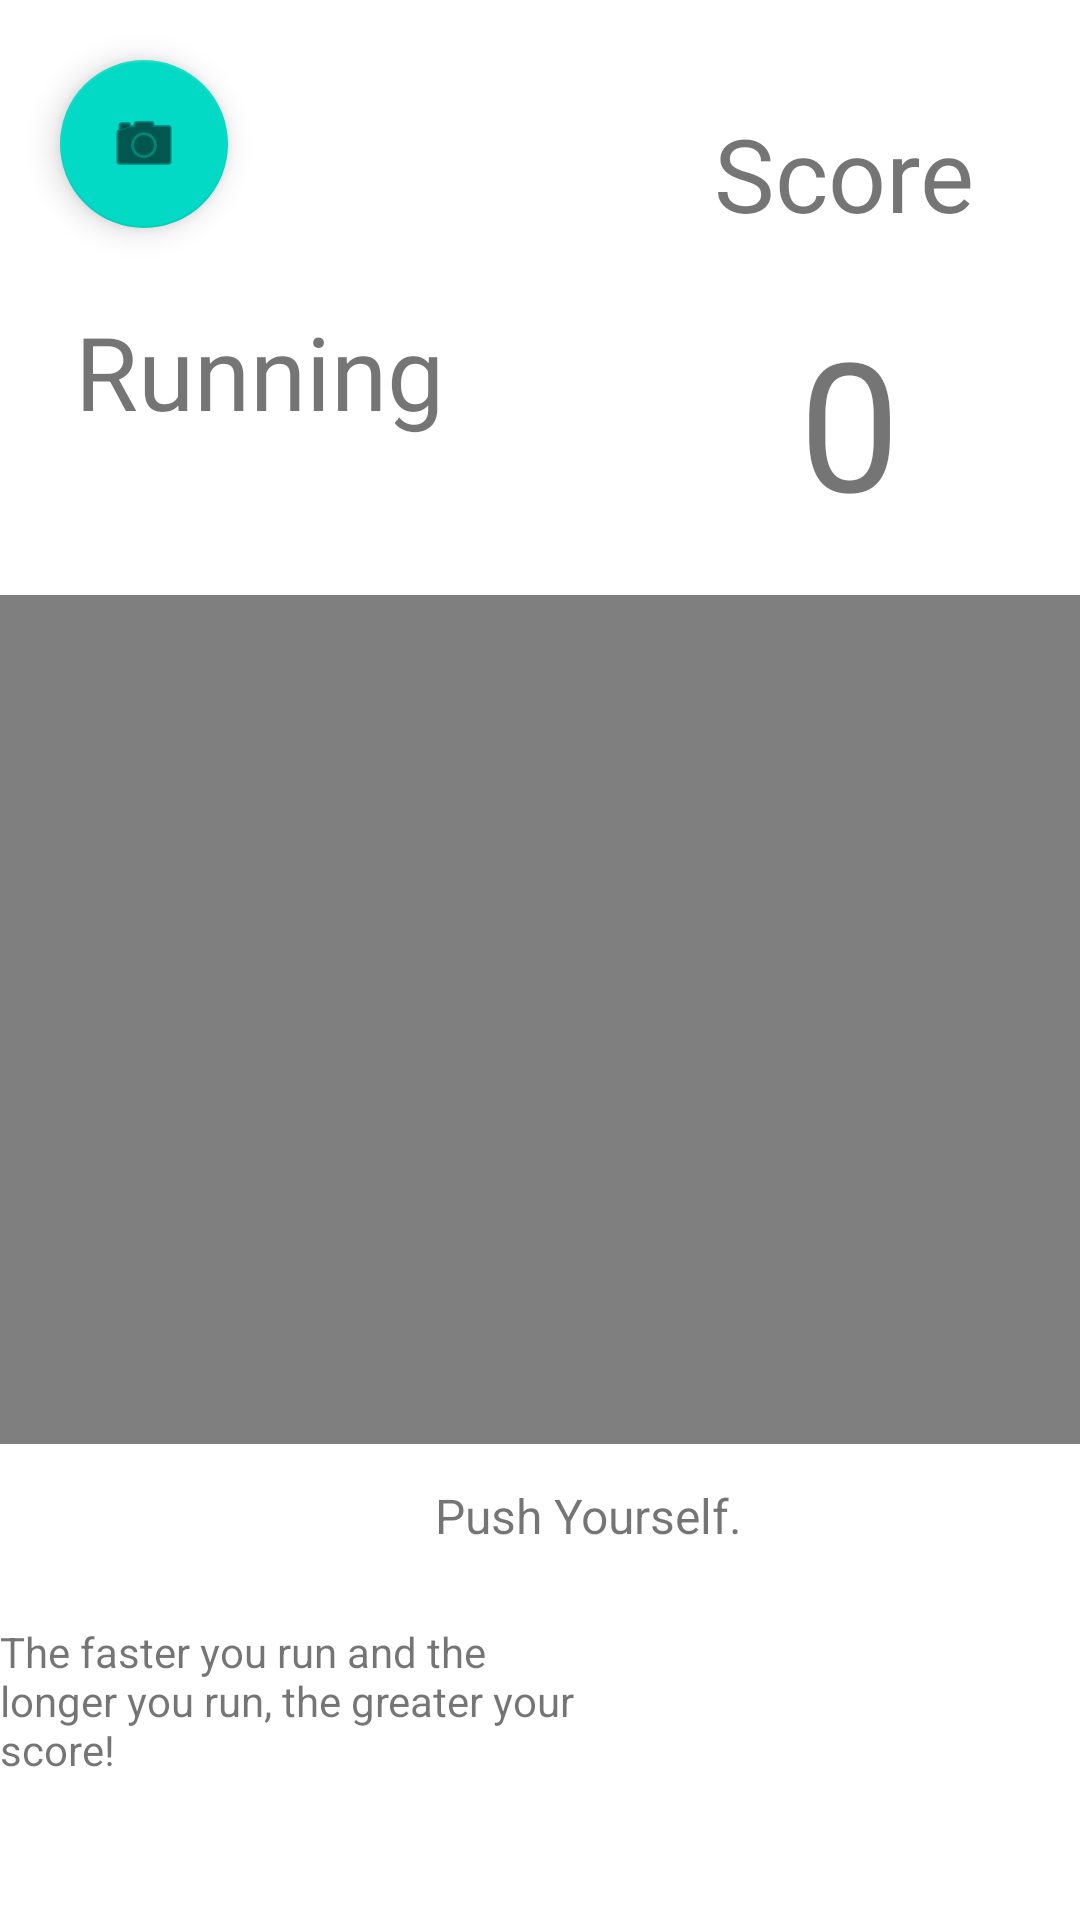

Icon bounding boxes for this 1080w x 1920h phone screenshot, format bbox(x1, y1, x2, y2):
camera: bbox(60, 60, 228, 228)
